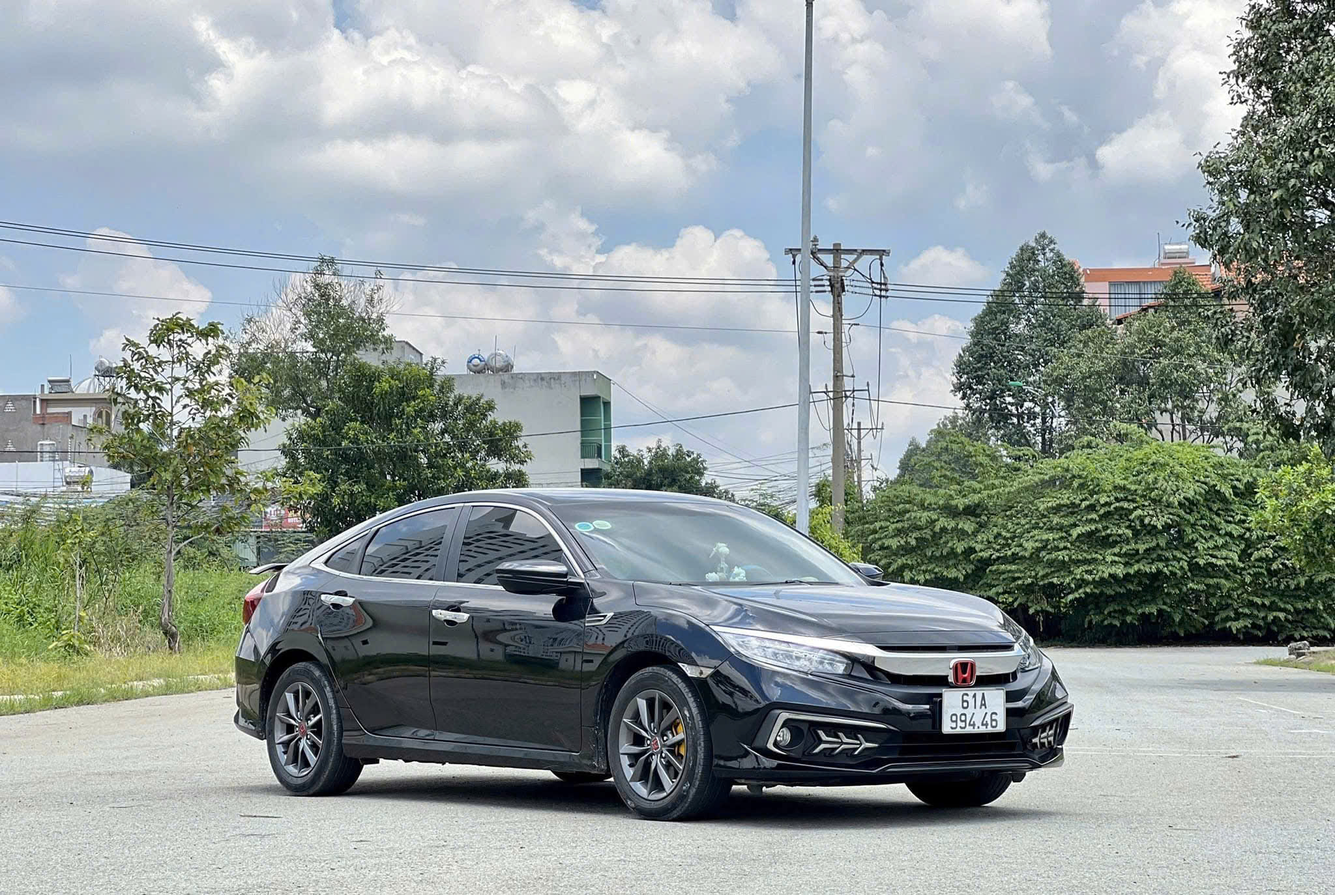Bien-so: (945, 688, 1004, 732)
